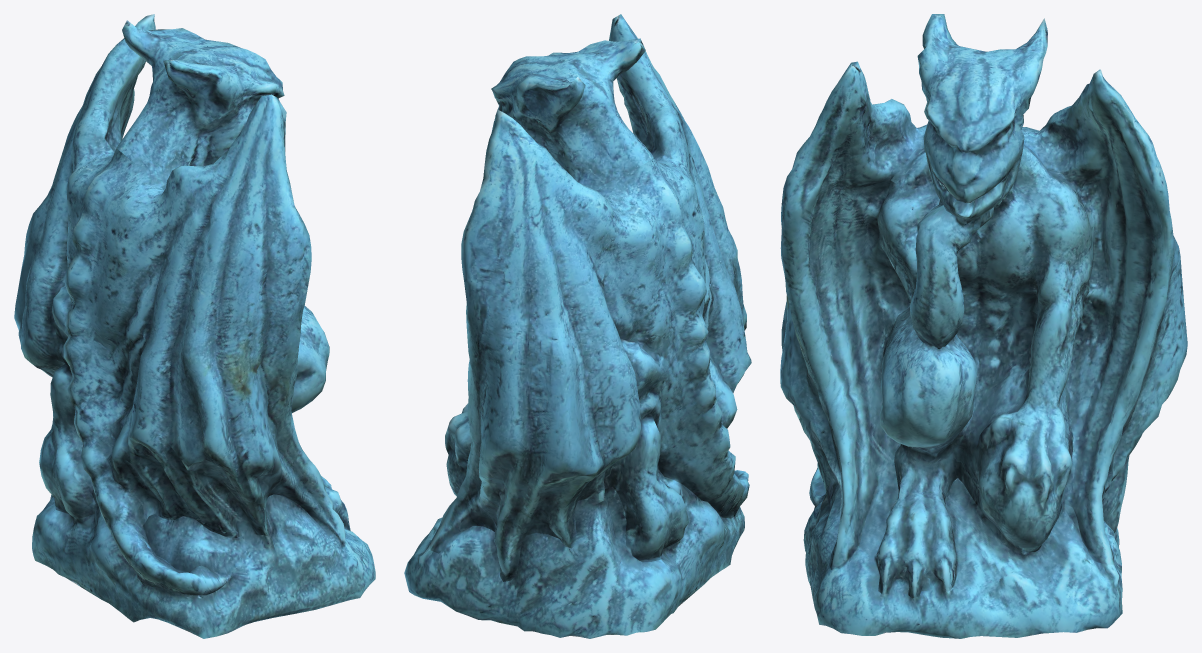
Rendered from gargoyle_blue.glb.
3 renders of one model, left to right at view 1: azimuth 30°, elevation 25°; view 2: azimuth 150°, elevation 25°; view 3: azimuth 270°, elevation 25°, orthographic. The views are drawn at different scales.
Parts seen in each view (by area): view 1: defaultMaterial; view 2: defaultMaterial; view 3: defaultMaterial.
Part boxes in pixels (box(x1,y1,x2,y2)): defaultMaterial: box(14, 14, 375, 638); defaultMaterial: box(404, 14, 751, 638); defaultMaterial: box(780, 14, 1187, 638).
Size of the model in its own units: 0.2292 by 0.4541 by 0.3055.
Materials: 1 (1 with a texture image).
